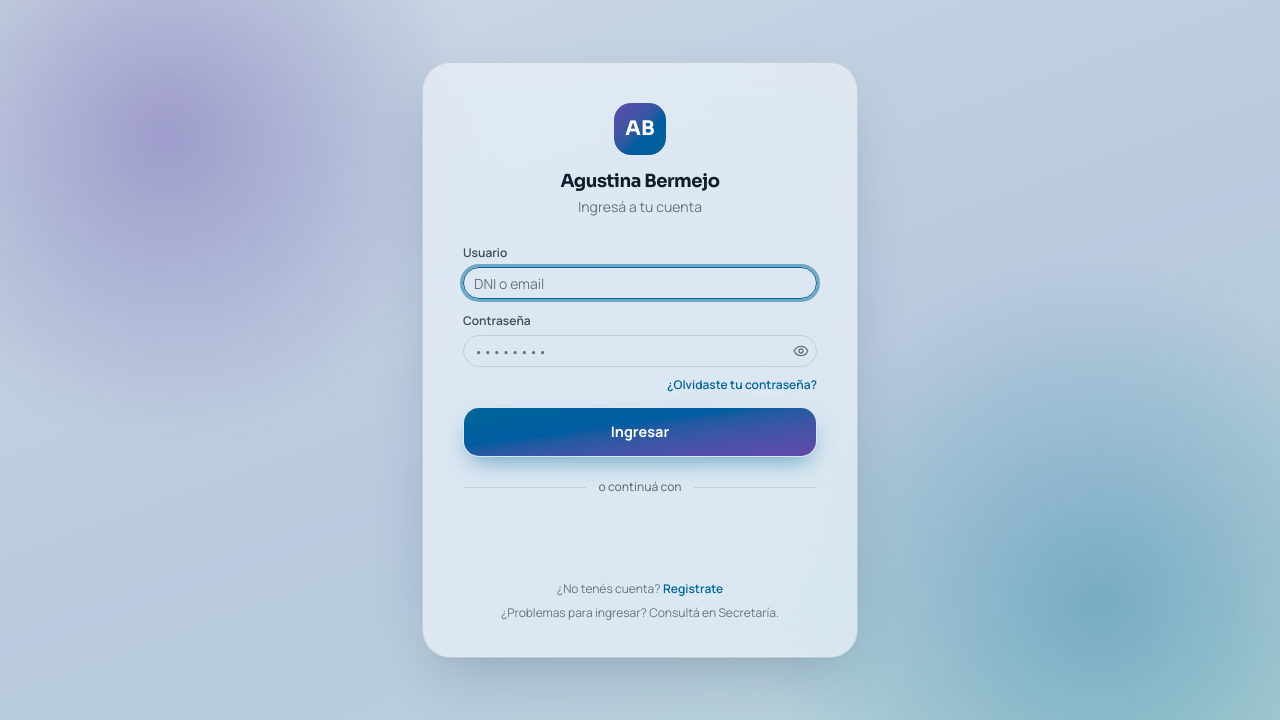
Test: flujo de login end-to-end › después de cerrar sesión, el siguiente usuario no hereda la página del anterior
The image size is (1280, 720).
Type "prueba.login" into the field with placeholder "DNI o email".
click(640, 283); type("prueba.login")  # box [463, 267, 817, 299]
Type "Test1234" into the password field with placeholder "••••••••".
click(640, 351); type("Test1234")  # box [463, 335, 817, 367]
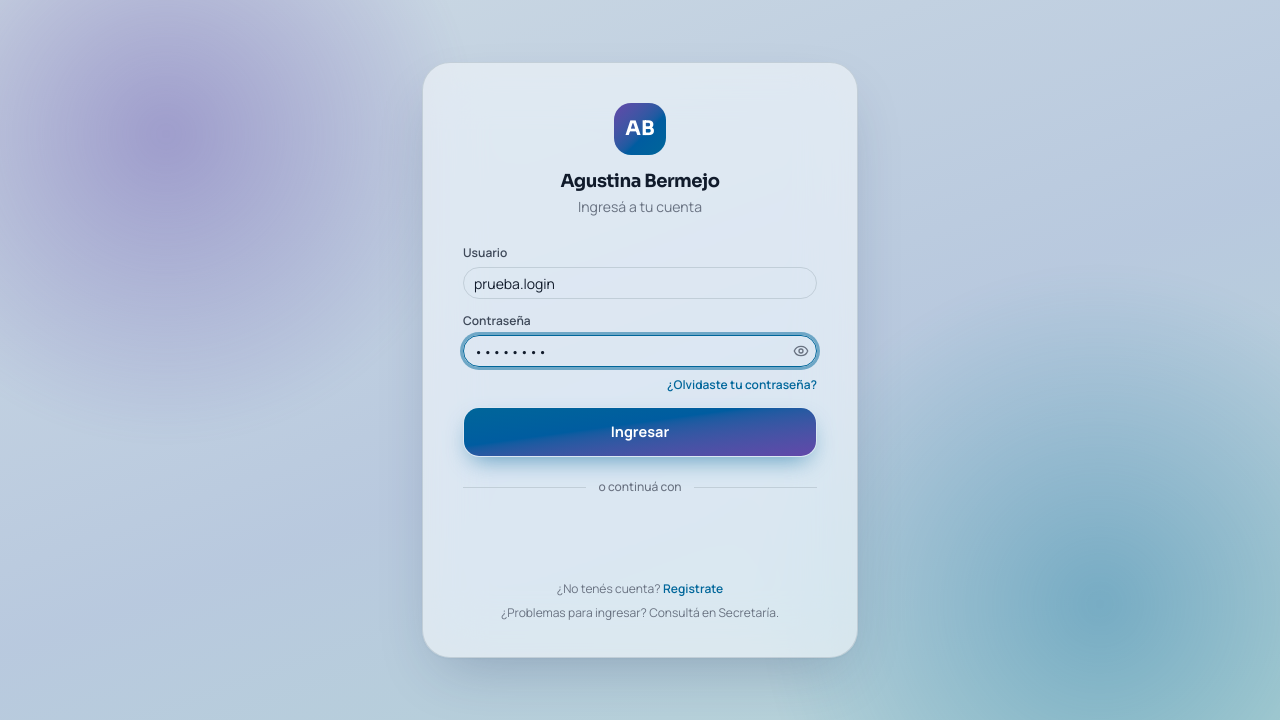
Click the button "Ingresar".
click(640, 432)  # box [463, 407, 817, 457]
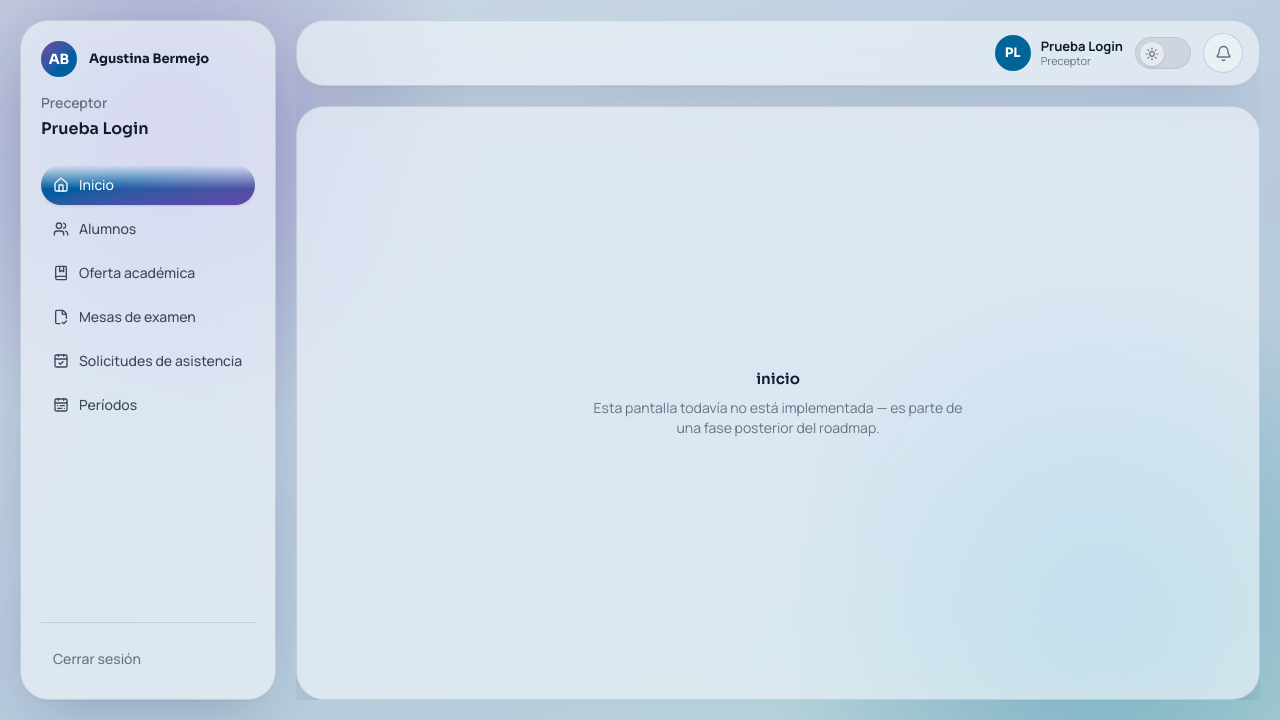
Expected: the text "Preceptor" is shown 3 times
Click the button "Cerrar sesión".
click(148, 659)  # box [41, 639, 255, 679]
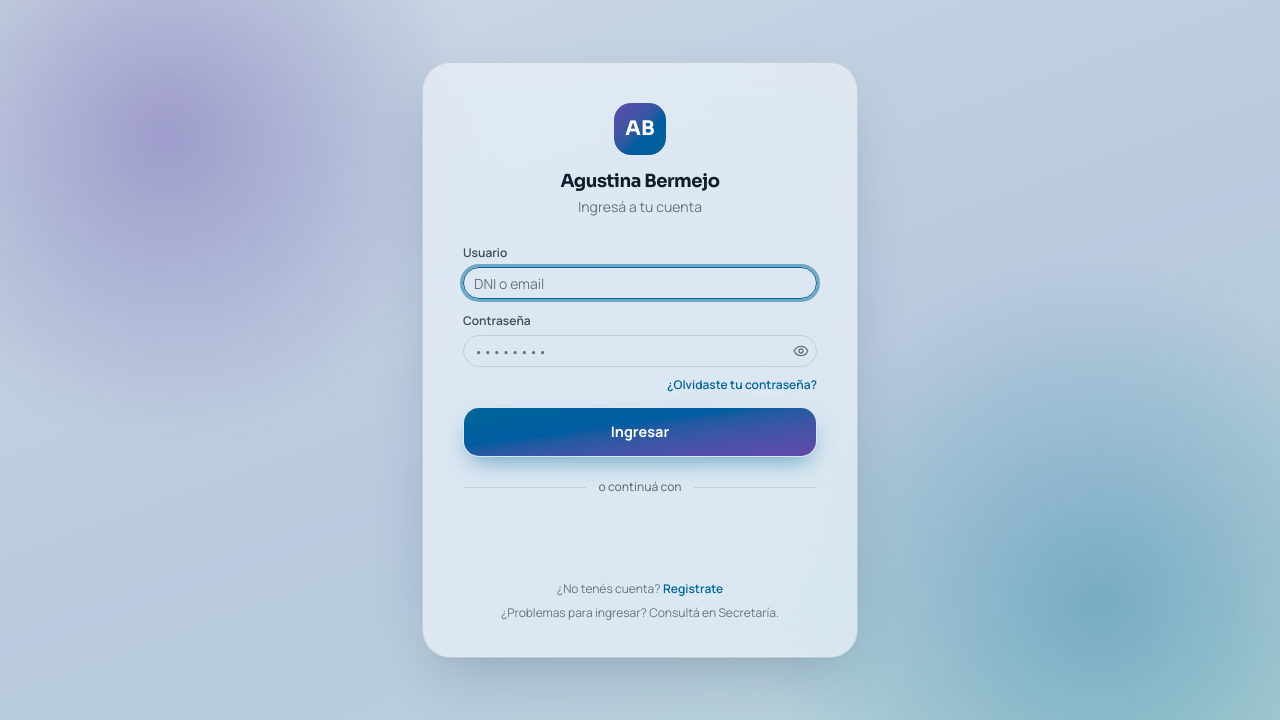
Expected: the field with placeholder "DNI o email" is shown
Type "prueba.login" into the field with placeholder "DNI o email".
click(640, 283); type("prueba.login")  # box [463, 267, 817, 299]
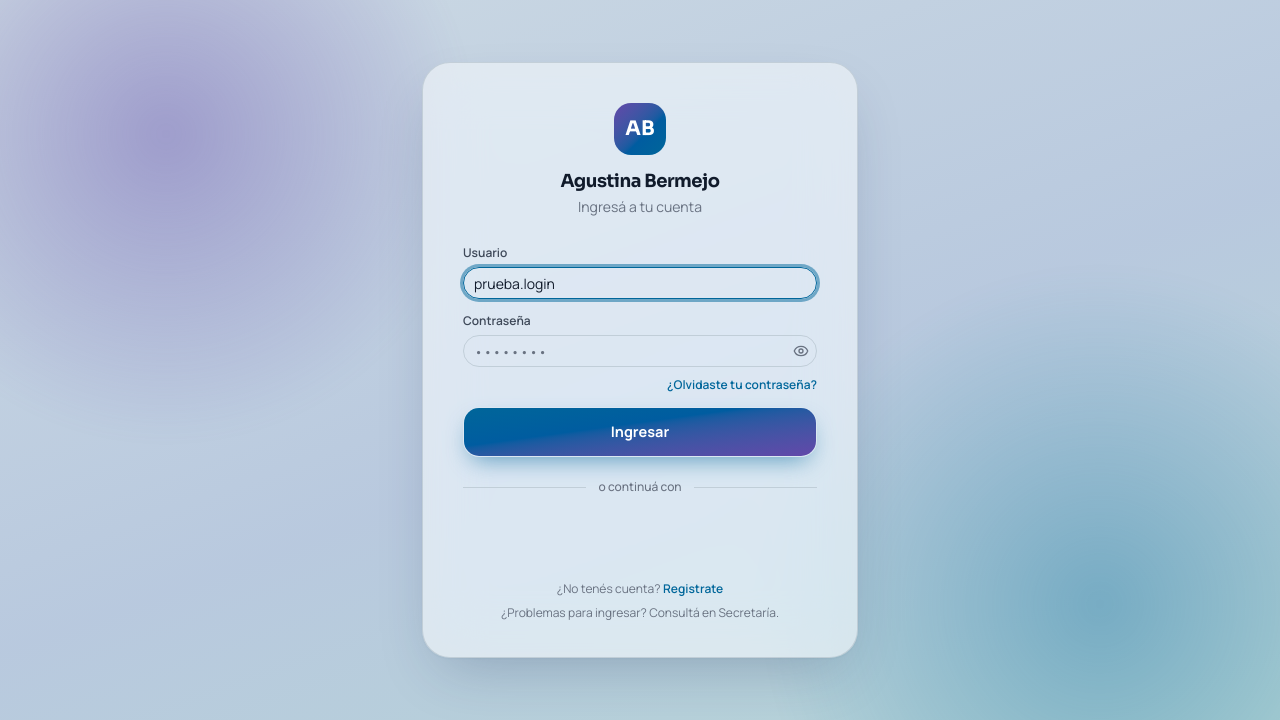
Type "Test1234" into the password field with placeholder "••••••••".
click(640, 351); type("Test1234")  # box [463, 335, 817, 367]
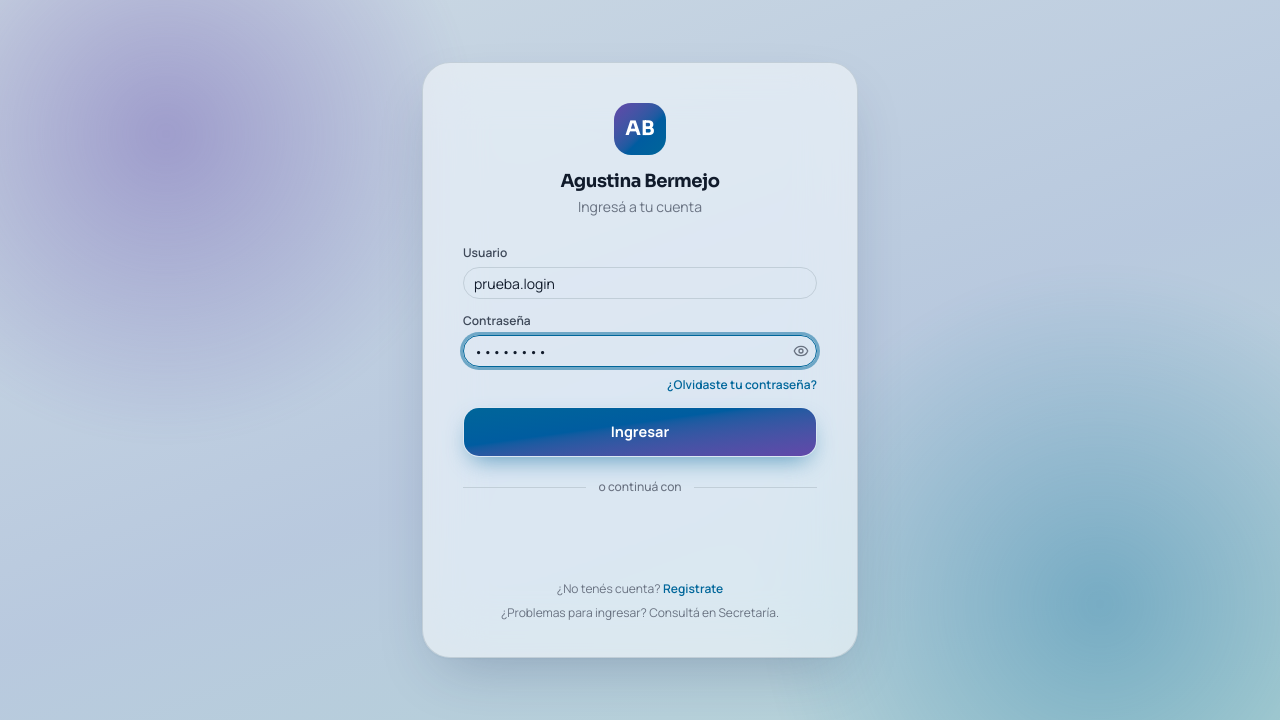
Click the button "Ingresar".
click(640, 432)  # box [463, 407, 817, 457]
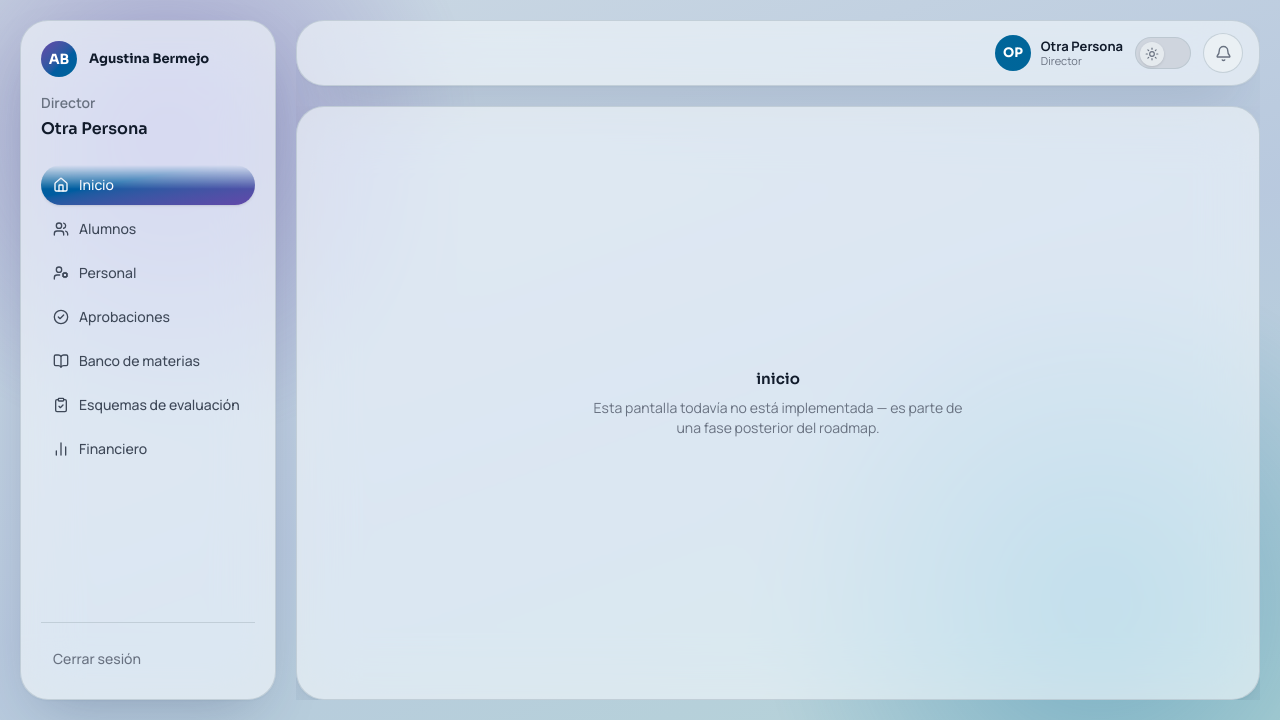
Expected: the text "Otra Persona" is shown 2 times, [41, 118, 148, 139]; [1041, 38, 1123, 54]
